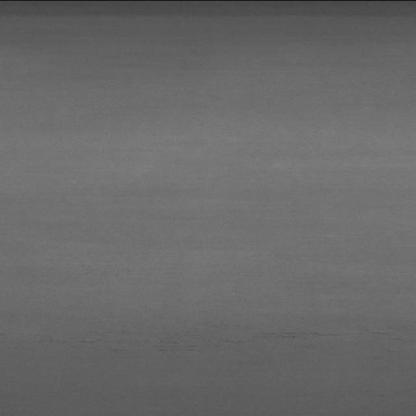silk_spot: (68, 317, 272, 371)
